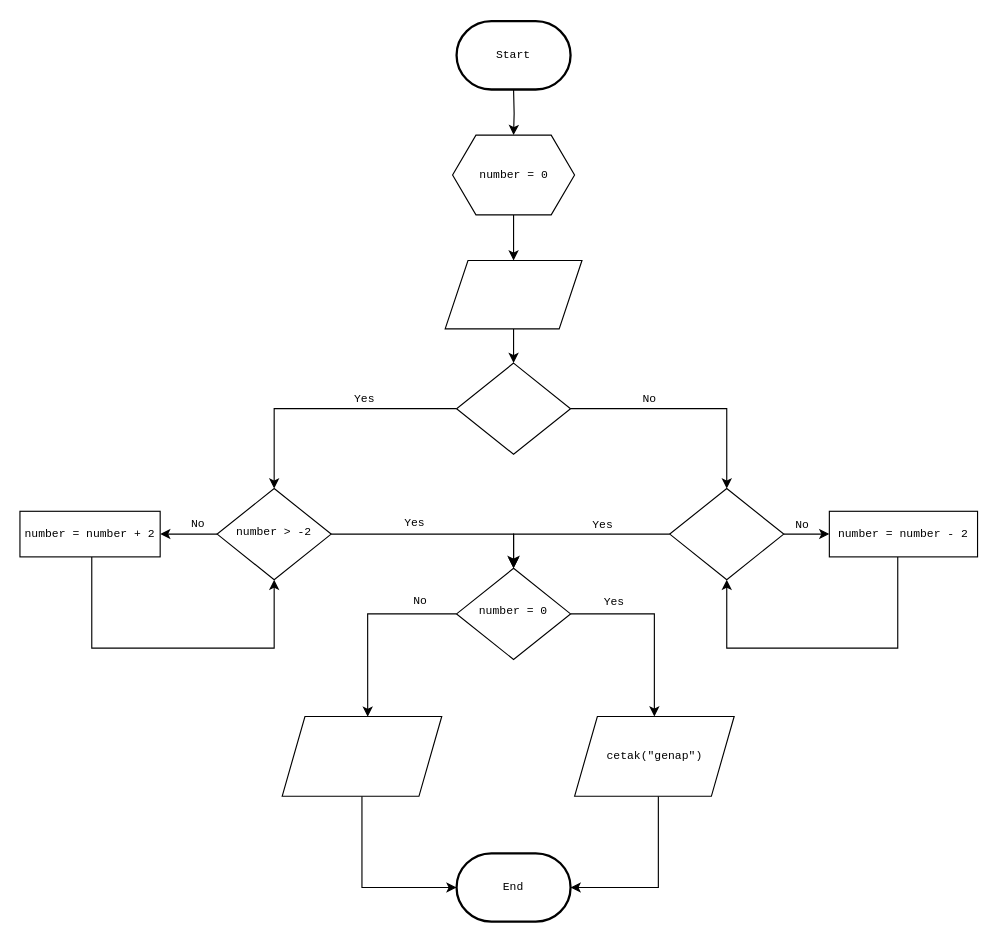
Image size: 998x942. Some labels were removed from this diagram. The shapes that lost their labels are listed below. From the top down, each one's centre as x and y in pixels, then its label:
(x=513, y=294): input(number)
(x=513, y=408): number < 0
(x=726, y=533): number < 2
(x=361, y=755): cetak("ganjil")
